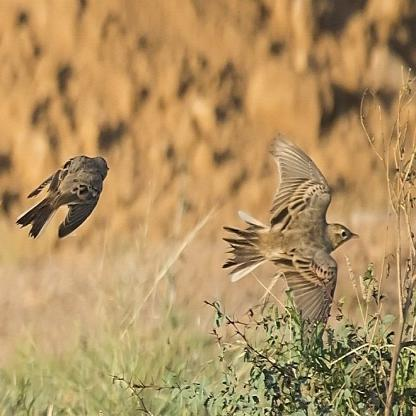Burung: (224, 135, 352, 349), (14, 154, 115, 239)
